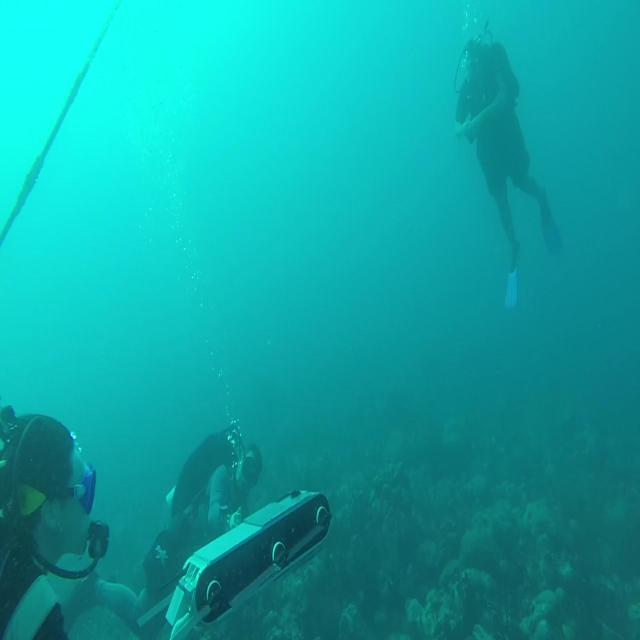human: (1, 411, 149, 638), (453, 28, 563, 310), (136, 418, 263, 625)
